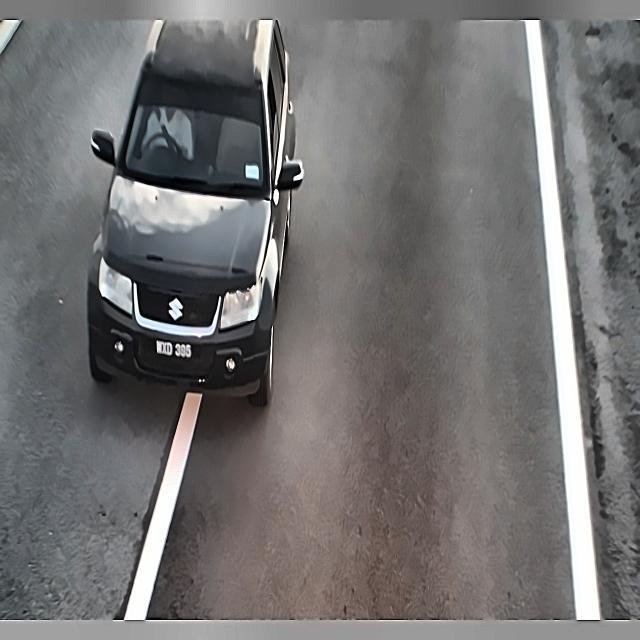car: (150, 336, 198, 366)
